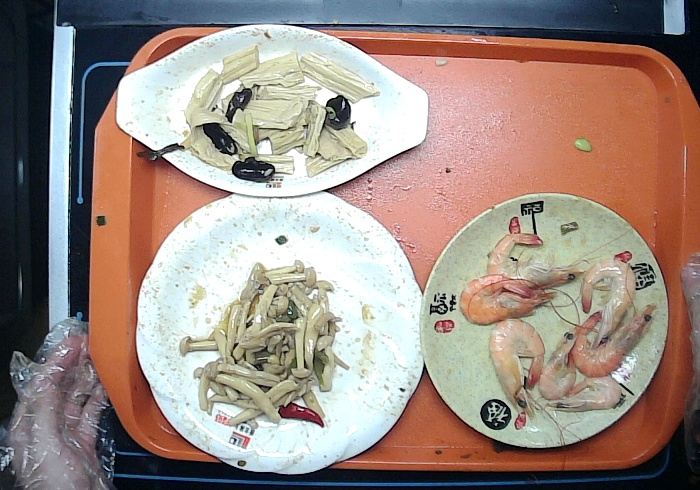NLDX-Bai_Zhe_Yuan_Pan: (138, 190, 423, 476)
NLDX-Fu_Zi_Yuan_Pan: (419, 190, 671, 450)
NLDX-Yu_Pan: (115, 22, 433, 200)
